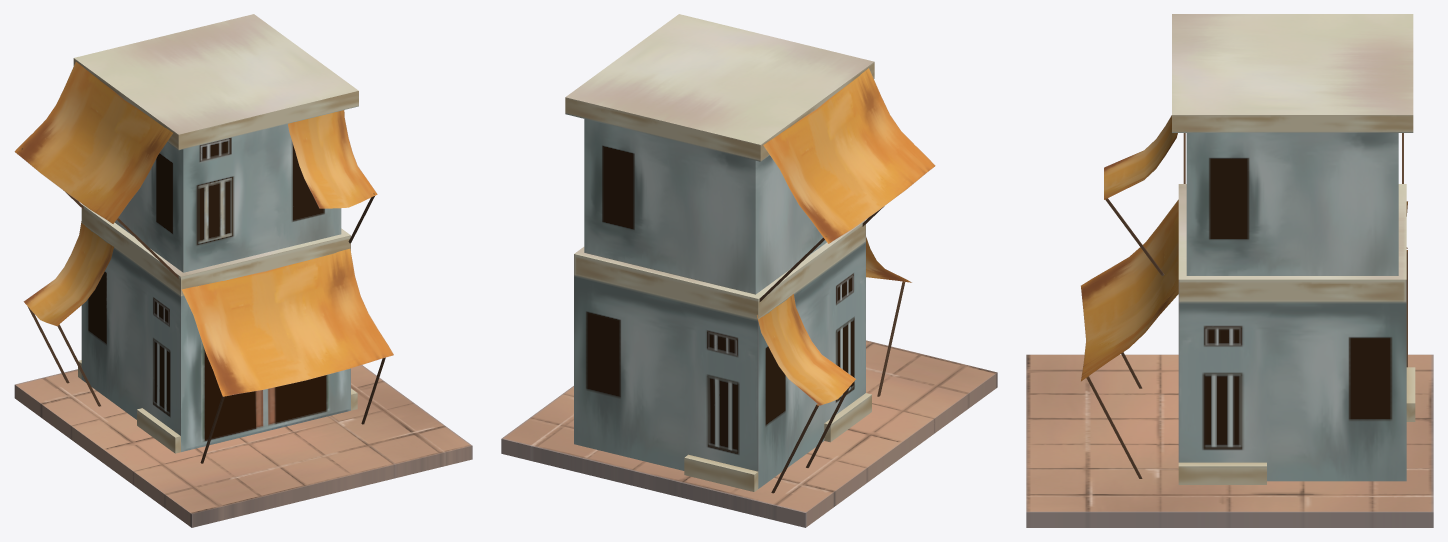
Rendered from restaurant02.fbx.
3 views of the same model, side by side, from view 1: azimuth 30°, elevation 25°; view 2: azimuth 150°, elevation 25°; view 3: azimuth 270°, elevation 25° (orthographic). The views are drawn at different scales.
Parts seen in each view (by area): view 1: Restaurant02; view 2: Restaurant02; view 3: Restaurant02.
Boxes of the visible parts, x1=… form: Restaurant02: x1=14, y1=14, x2=472, y2=527; Restaurant02: x1=501, y1=14, x2=997, y2=527; Restaurant02: x1=1026, y1=14, x2=1433, y2=527.
Size of the model in its own units: 585 by 641 by 616.
Materials: 1 (1 with a texture image).
